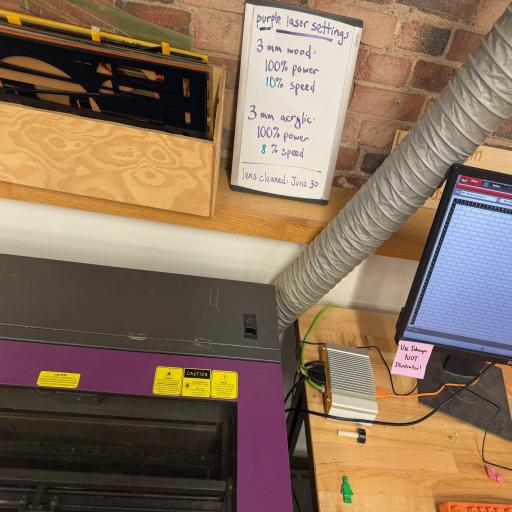Lego-Dude: (340, 475, 353, 504)
